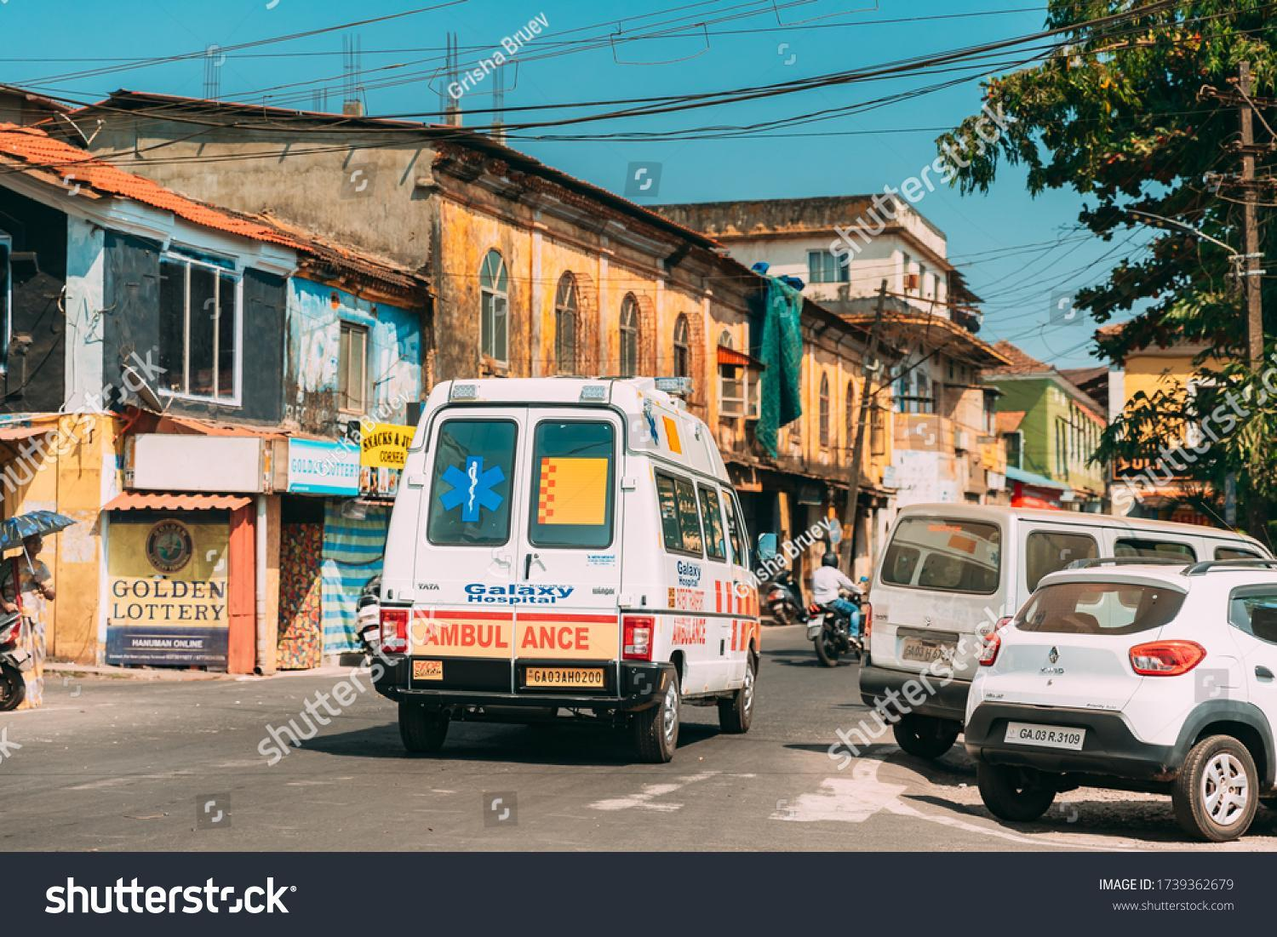Ambulance: (422, 615, 602, 653), (430, 451, 510, 533)
